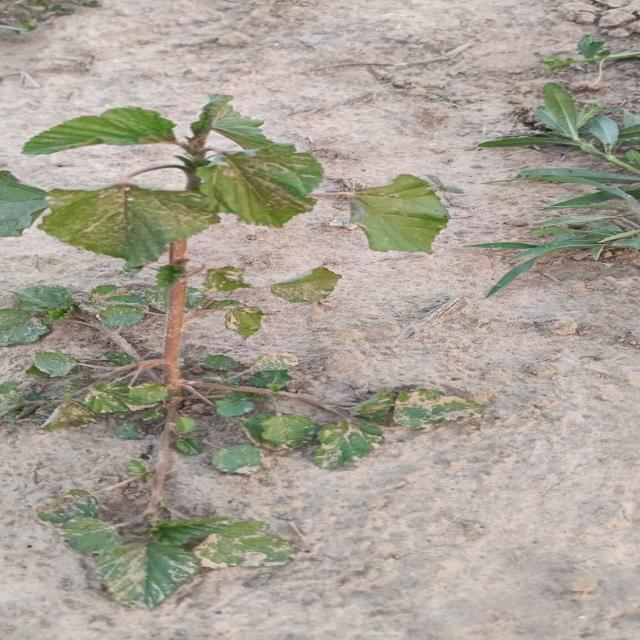weed: (0, 94, 480, 609), (268, 267, 339, 303)
